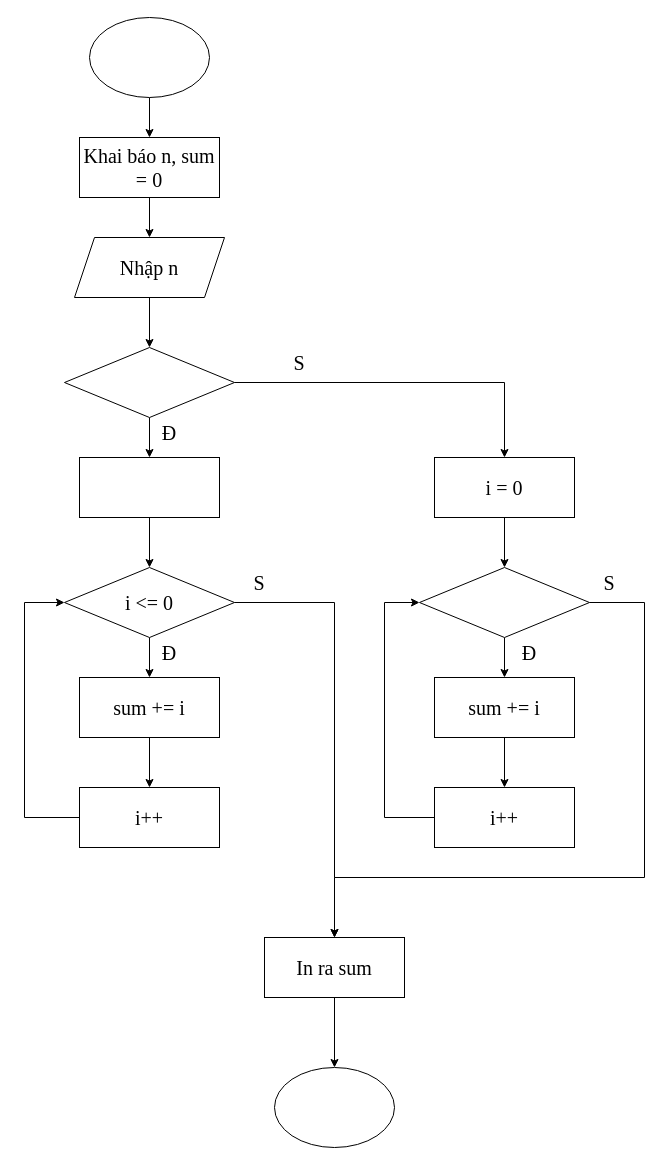
The diagram is 670 pixels wide and 1165 high, and some of its shapes have lost their labels. Each missing label, with the box of its shape:
Bắt đầu: (88, 16, 210, 98)
i <= n: (418, 566, 590, 638)
i = n: (78, 456, 220, 518)
Kết thúc: (274, 1066, 394, 1148)
n < 0: (64, 346, 234, 418)
